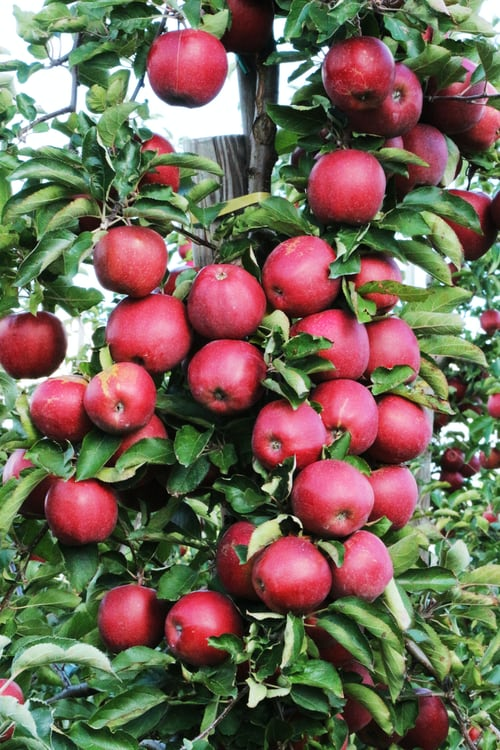apple: (246, 390, 326, 481), (291, 456, 373, 543), (144, 29, 233, 107), (107, 290, 188, 372), (306, 145, 388, 225), (186, 258, 265, 336), (189, 336, 267, 412), (186, 263, 265, 338), (253, 533, 331, 608), (163, 590, 242, 664), (306, 380, 380, 458), (324, 33, 398, 111), (96, 223, 171, 299), (80, 361, 159, 432), (290, 313, 369, 383), (97, 574, 164, 648), (41, 481, 117, 545), (1, 306, 65, 380), (432, 188, 491, 263), (326, 533, 394, 596), (30, 373, 89, 445), (346, 239, 401, 316), (373, 390, 430, 462), (365, 312, 420, 386), (386, 129, 449, 190), (367, 466, 419, 533), (220, 516, 258, 590)
